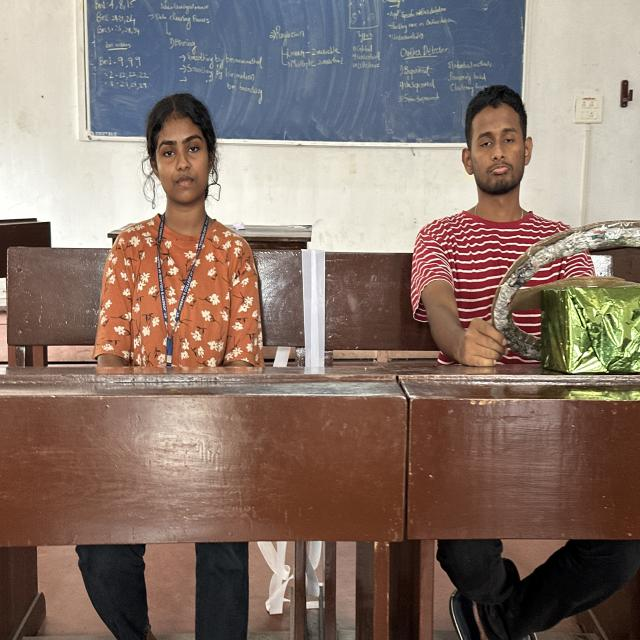no-seatbelt: (416, 205, 596, 353), (98, 214, 260, 366)
